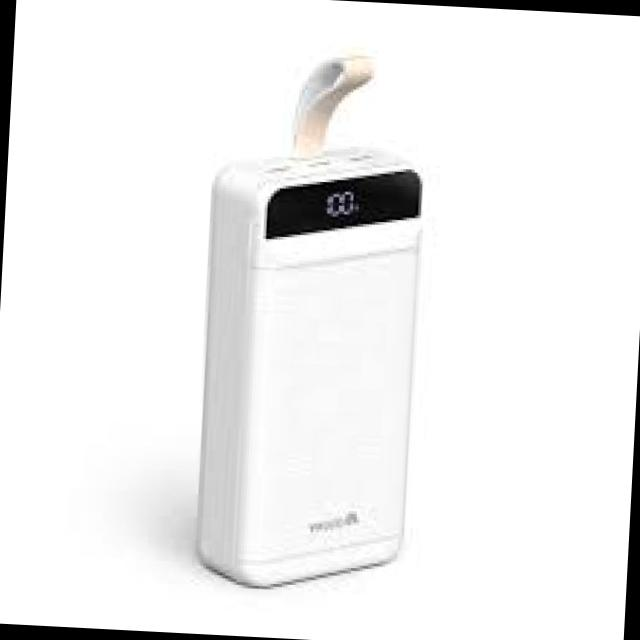portable-charger: (190, 142, 432, 595)
